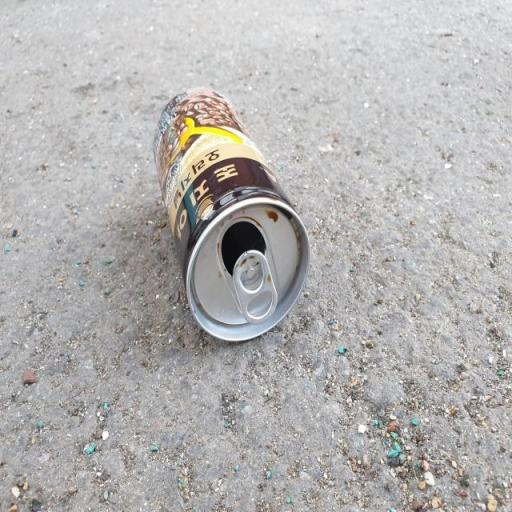metal: (142, 67, 318, 372)
